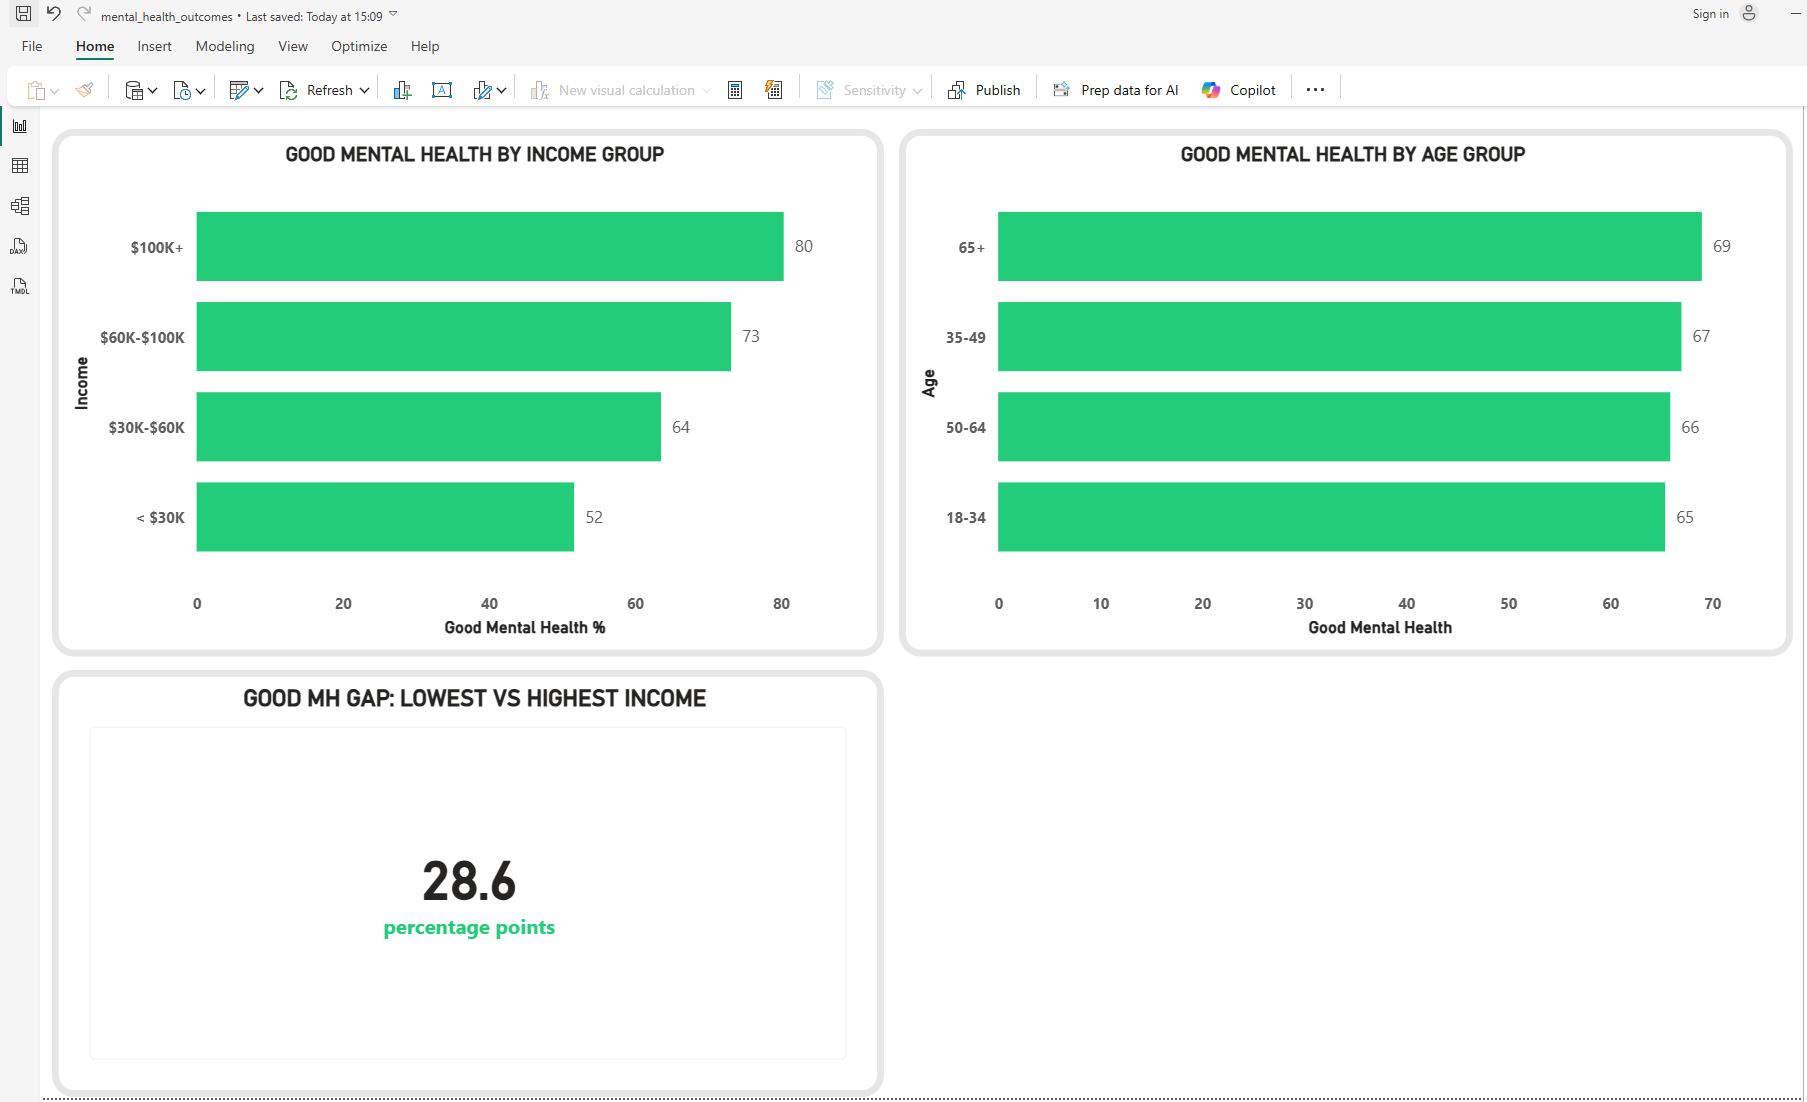

The page's visual inventory and layout, read from the dashboard file:
{"tool":"powerbi","page":{"name":"DEMOGRAPHIC BREAKDOWN","canvas":[1280,720],"ordinal":2},"visuals":[{"type":"clusteredBarChart","title":"GOOD MENTAL HEALTH BY INCOME GROUP","fields":{"Category":["cchs_data.income_group"],"Y":["cchs_data.Good MH %"]},"box":[8.8,16.7,604.1,383.1],"z":0},{"type":"clusteredBarChart","title":"GOOD MENTAL HEALTH BY AGE GROUP","fields":{"Category":["cchs_data.age_group"],"Y":["cchs_data.Good MH %"]},"box":[623.8,16.7,649.3,383.1],"z":1000},{"type":"cardVisual","title":"GOOD MH GAP: LOWEST VS HIGHEST INCOME","fields":{"Data":["cchs_data.Income MH Gap"]},"box":[8.8,409.6,604.1,310.4],"z":2000}]}

Visuals, with their boxes on the page's 1280x720 design canvas (x1, y1, x2, y2). These are canvas units, not pixel positions in the 1807x1102 screenshot, which may show the page scaled, cropped or inside an application window:
"GOOD MENTAL HEALTH BY INCOME GROUP" clusteredBarChart: [x1=9, y1=17, x2=613, y2=400]
"GOOD MENTAL HEALTH BY AGE GROUP" clusteredBarChart: [x1=624, y1=17, x2=1273, y2=400]
"GOOD MH GAP: LOWEST VS HIGHEST INCOME" cardVisual: [x1=9, y1=410, x2=613, y2=720]
